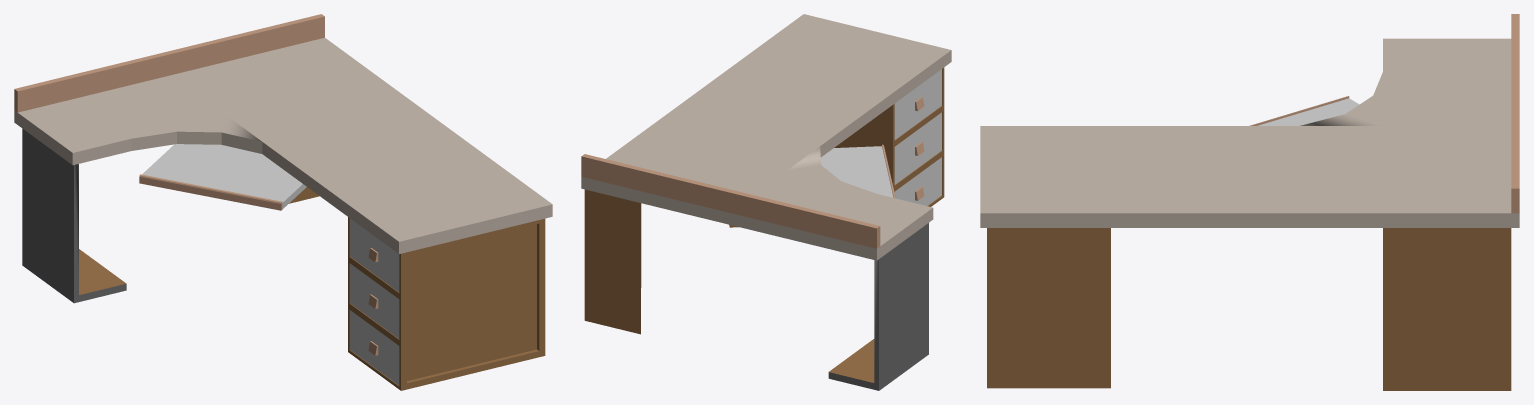
File: Table 2.fbx
3 renders of one model, left to right at view 1: azimuth 30°, elevation 25°; view 2: azimuth 150°, elevation 25°; view 3: azimuth 270°, elevation 25°, orthographic. The views are drawn at different scales.
Visible parts, largest first — view 1: Table; view 2: Table; view 3: Table.
Boxes of the visible parts, left/top/right/bottom form: Table: left=14, top=14, right=552, bottom=390; Table: left=581, top=14, right=951, bottom=390; Table: left=980, top=14, right=1519, bottom=390.
Size of the model in its own units: 8.85 by 11.53 by 4.77.
